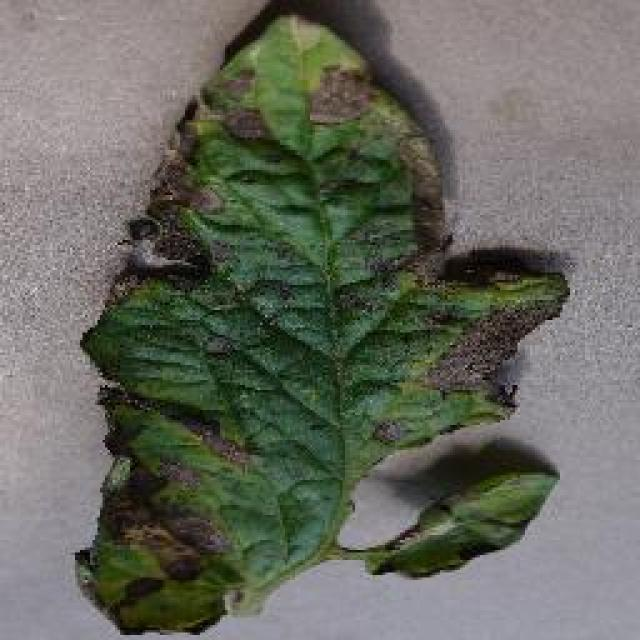Tomato___Early_blight: (72, 12, 572, 638)
